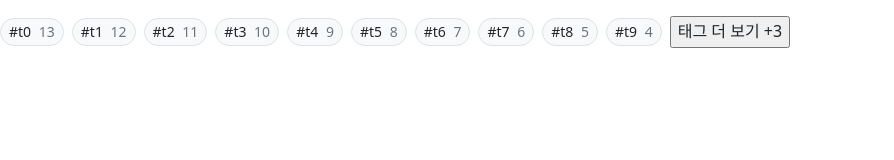
Test: BlogTagStrip › 처음 10개와 [태그 더 보기 +남은 수], 누르면 나머지를 펼친다
This screenshot has width=894, height=160.
expect the link "#t0 13" is shown: met, box [0,18,64,46]
Click the button "태그 더 보기 +3".
click(730, 32)  # box [670,16,790,48]
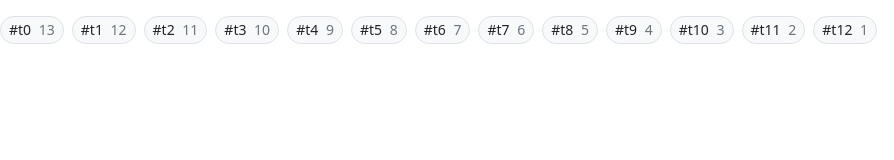
expect the number of links is 13: met
expect the button "태그 더 보기" is gone: met
